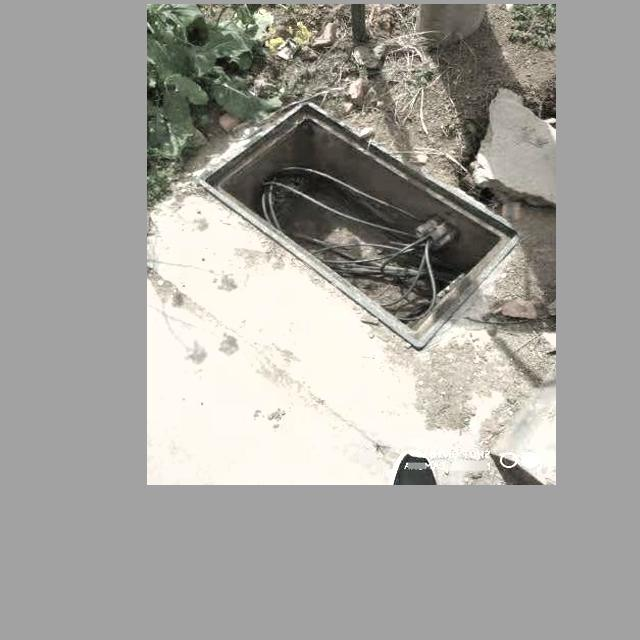lose: (201, 100, 523, 351)
